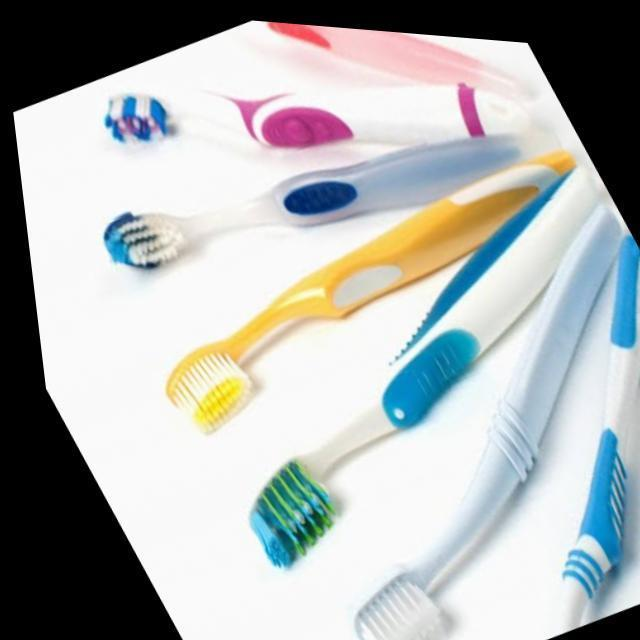toothbrush: (225, 153, 608, 572), (338, 194, 620, 640), (151, 142, 577, 432), (94, 133, 577, 269), (539, 229, 640, 624), (99, 66, 568, 150), (248, 16, 544, 95)
